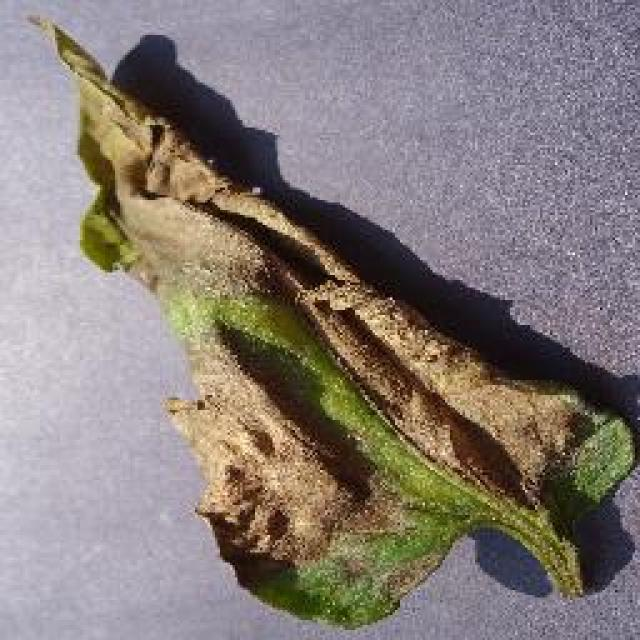Tomato Late Blight: (35, 50, 640, 522)
